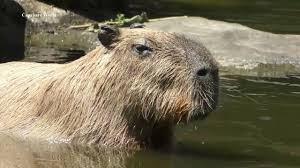capivara: (1, 23, 219, 152)
